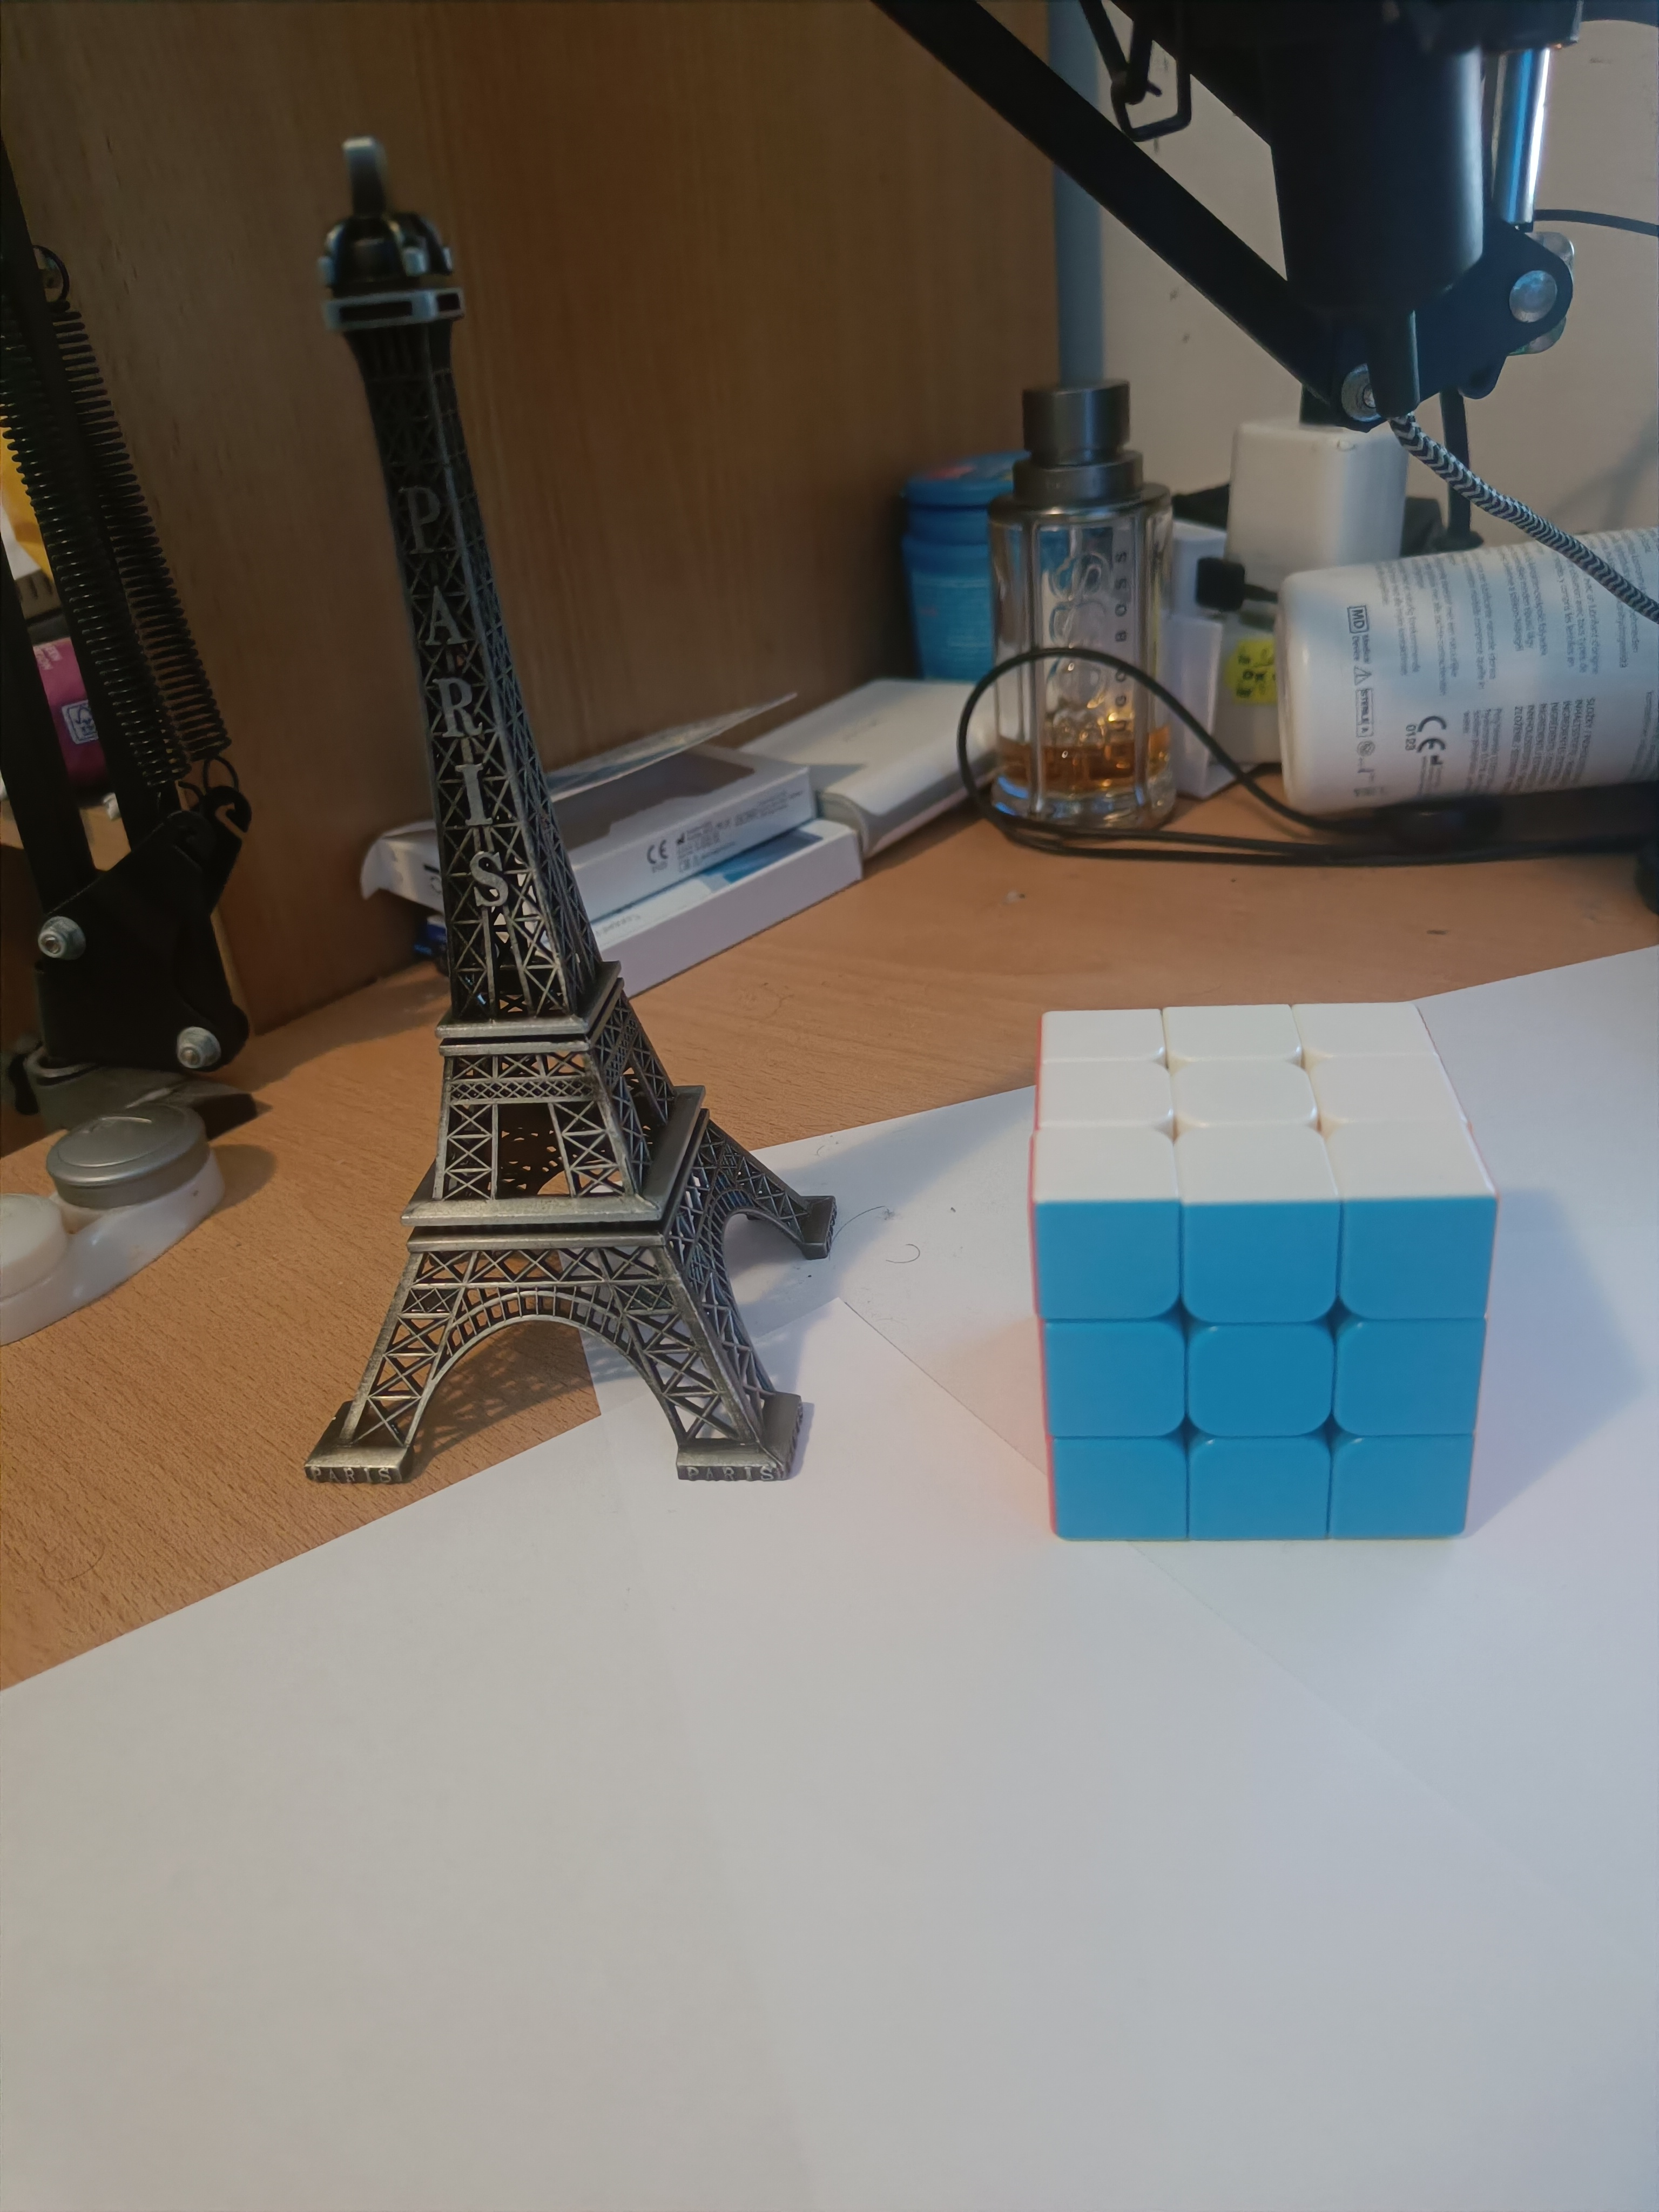Eiffel Tower: (281, 125, 859, 1510)
Rubiks Cube: (1009, 989, 1499, 1561)
